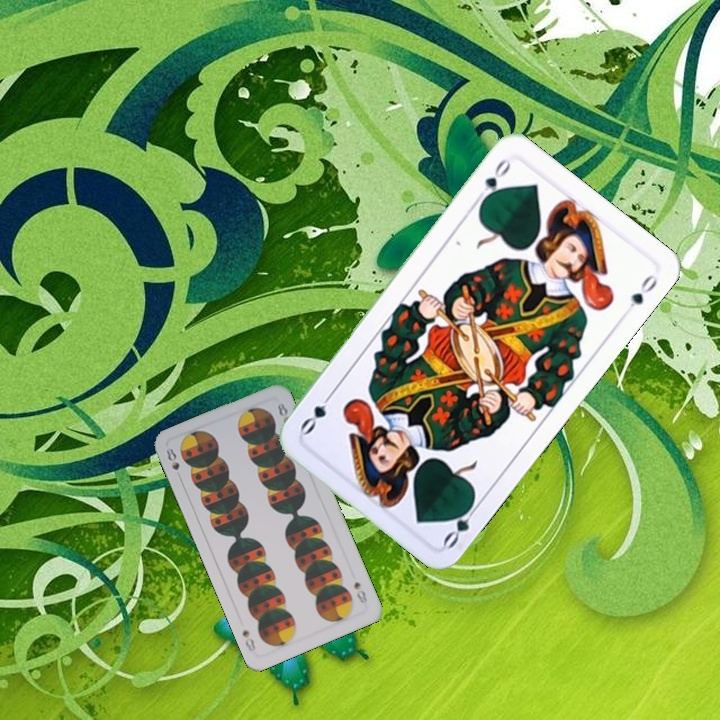GO: (439, 496, 483, 551), (471, 154, 514, 207)
S8: (162, 444, 184, 483), (350, 577, 370, 606)
